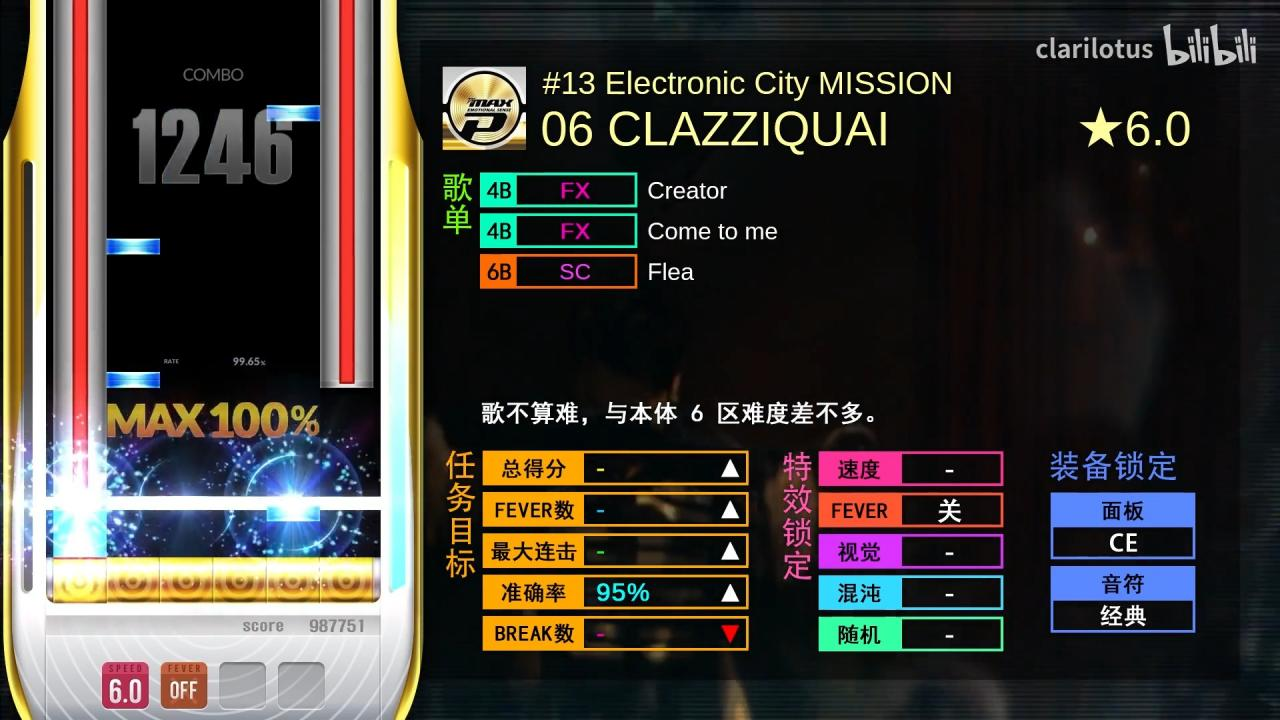hold-start: (320, 372, 374, 388)
note: (267, 104, 321, 122), (107, 371, 160, 389), (106, 238, 160, 254), (266, 507, 320, 522)
